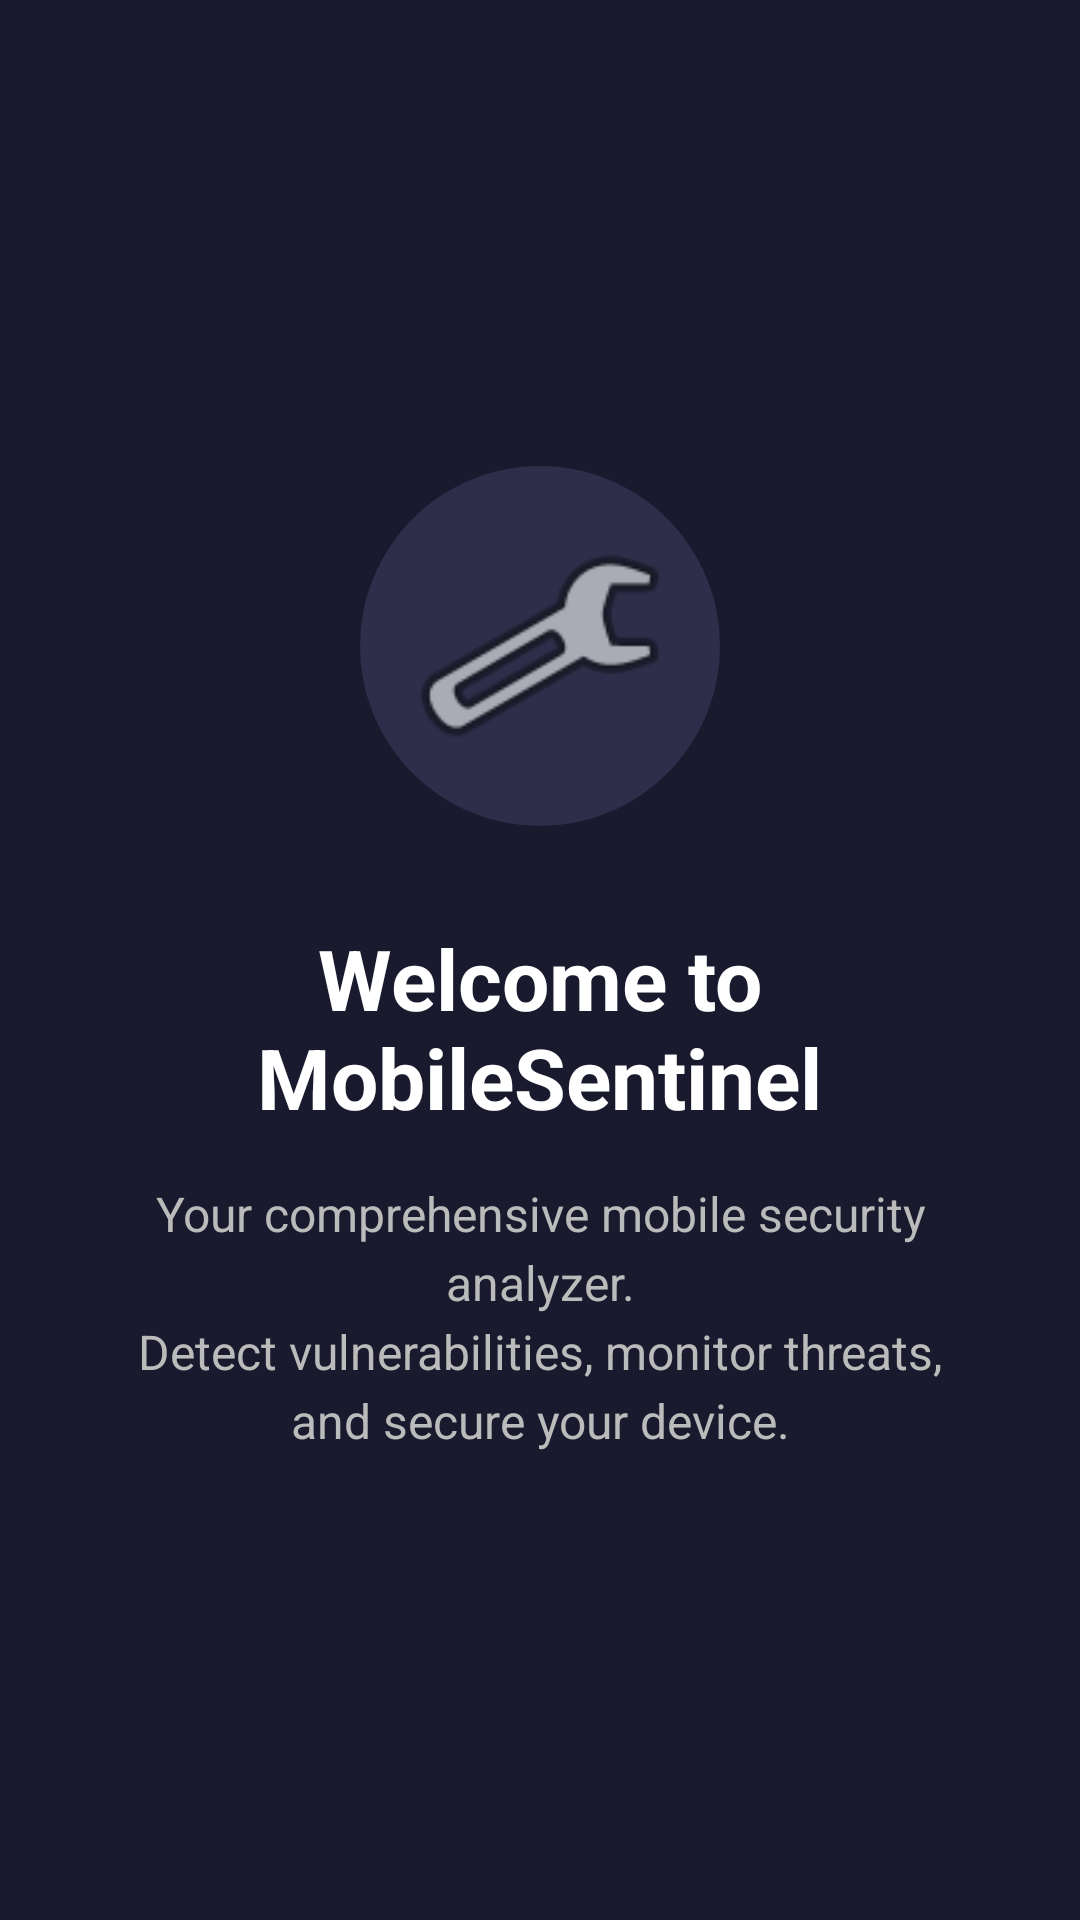

Where to tap for icons on this 1080x1920 app screen, as point (x, y):
manage: point (540, 646)
